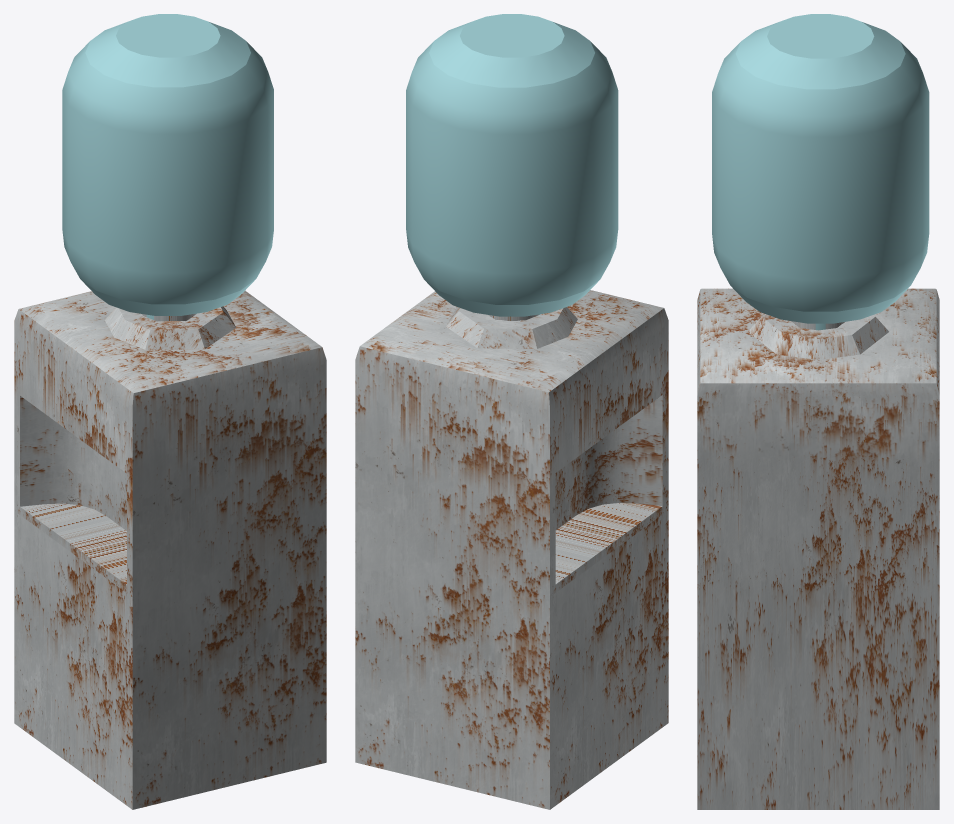
File: TanqueDeAgua.fbx
3 views of the same model, side by side, from view 1: azimuth 30°, elevation 25°; view 2: azimuth 150°, elevation 25°; view 3: azimuth 270°, elevation 25° (orthographic). The views are drawn at different scales.
Parts seen in each view (by area): view 1: Dispensador de agua007; view 2: Dispensador de agua007; view 3: Dispensador de agua007.
Part boxes in pixels (x1,y1,x2,y2): Dispensador de agua007: [14, 14, 326, 809]; Dispensador de agua007: [355, 14, 668, 809]; Dispensador de agua007: [697, 14, 939, 809].
Bounding box in the file's own units: 49.79 × 173 × 52.59.
